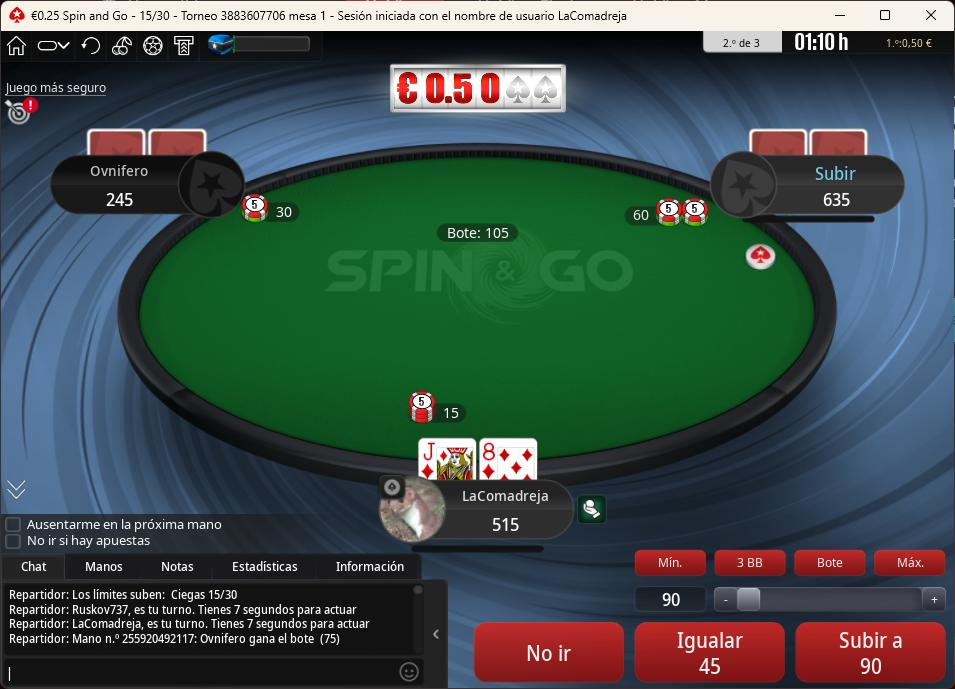ButtonCall: (633, 618, 788, 687)
ButtonFold: (472, 619, 625, 682)
ButtonMaxRaise: (871, 546, 947, 579)
ButtonMinRaise: (634, 550, 709, 578)
ButtonPotRaise: (792, 547, 869, 578)
ButtonRaise: (794, 620, 951, 686)
HiddenCards: (83, 129, 213, 159), (745, 129, 866, 158)
Player: (717, 156, 911, 220), (49, 152, 244, 214)
PlayerBet: (623, 188, 713, 242), (239, 191, 306, 233)
PlayerChips: (102, 185, 144, 210), (822, 190, 856, 212)
Pot: (436, 222, 518, 243)
PrincipalBet: (406, 384, 475, 432)
PrincipalCards: (416, 435, 541, 485)
PrincipalCards1: (413, 435, 479, 483)
PrincipalCards2: (479, 436, 542, 482)
PrincipalPlayer: (372, 471, 571, 545)
SmallBigBlind: (129, 6, 181, 28)
